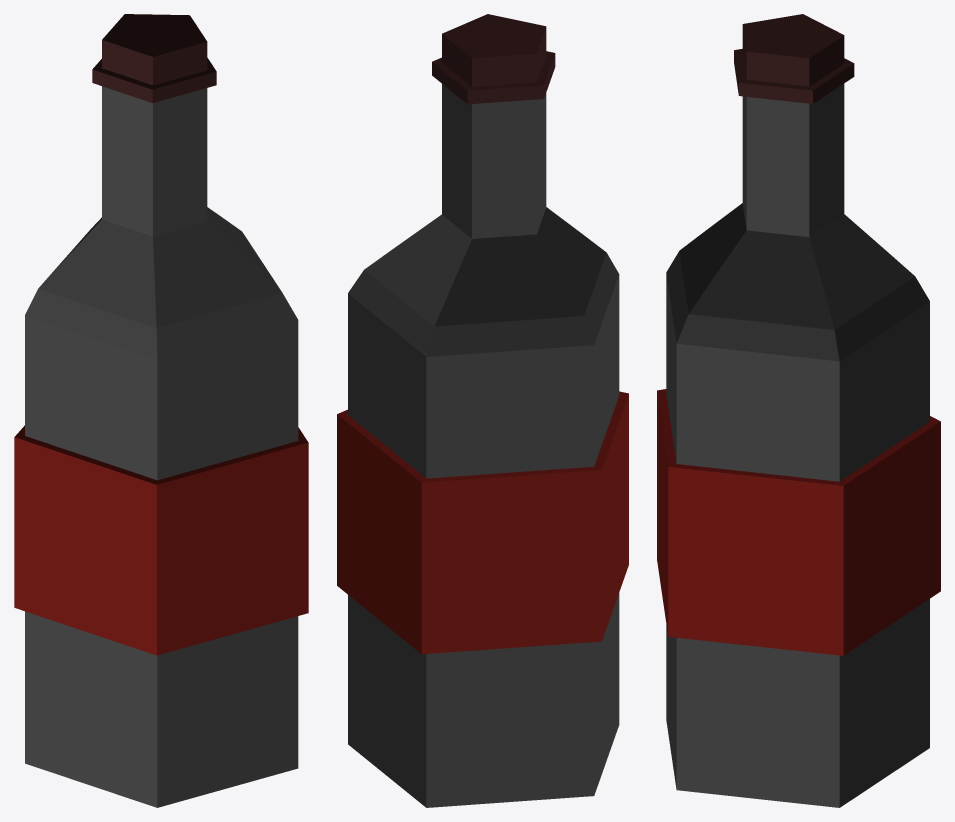
File: Bottle 13.fbx
The picture shows the model from 3 angles, left to right: view 1: azimuth 30°, elevation 25°; view 2: azimuth 150°, elevation 25°; view 3: azimuth 270°, elevation 25°; orthographic projection.
Visible parts, largest first — view 1: Node 0; view 2: Node 0; view 3: Node 0.
Boxes of the visible parts, x1,y1,x2,y2 form: Node 0: [14, 14, 308, 807]; Node 0: [337, 14, 628, 807]; Node 0: [657, 14, 940, 807].
Bounding box in the file's own units: 0.0997 × 0.2757 × 0.1027.
